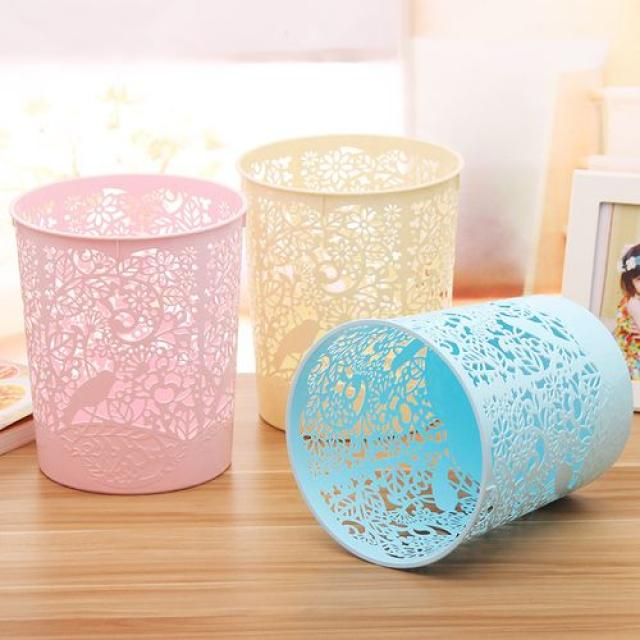dustbin: (280, 288, 634, 570), (9, 164, 252, 499), (232, 125, 468, 447)
